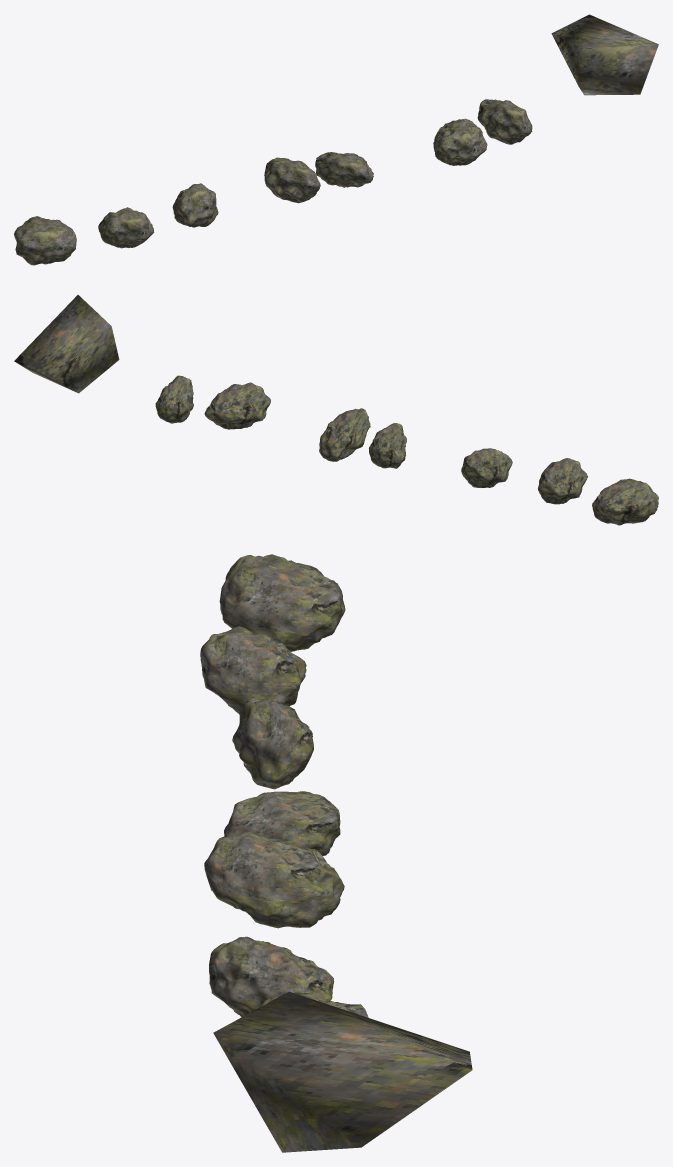
The model's file is 8mossyRocks.gltf.
The picture shows the model from 3 angles, top to bottom: view 1: azimuth 30°, elevation 25°; view 2: azimuth 150°, elevation 25°; view 3: azimuth 270°, elevation 25°; orthographic projection. The views are drawn at different scales.
Parts seen in each view (by area): view 1: Cube.010, Cube, Cube.006, Cube.003, Cube.009, Cube.001, Cube.004, Cube.002; view 2: Cube.010, Cube, Cube.006, Cube.004, Cube.001, Cube.002, Cube.009, Cube.003; view 3: Cube.010, Cube.004, Cube, Cube.001, Cube.006, Cube.002, Cube.003.
Part boxes in pixels (left/top/right/bottom): Cube.010: left=551, top=14, right=658, bottom=95; Cube: left=14, top=216, right=76, bottom=265; Cube.006: left=433, top=118, right=487, bottom=165; Cube.003: left=264, top=157, right=320, bottom=203; Cube.009: left=477, top=99, right=532, bottom=144; Cube.001: left=98, top=207, right=154, bottom=248; Cube.004: left=315, top=152, right=373, bottom=187; Cube.002: left=172, top=183, right=218, bottom=227; Cube.010: left=14, top=295, right=119, bottom=393; Cube: left=592, top=478, right=658, bottom=525; Cube.006: left=204, top=382, right=270, bottom=429; Cube.004: left=319, top=408, right=370, bottom=461; Cube.001: left=538, top=458, right=587, bottom=504; Cube.002: left=461, top=448, right=512, bottom=487; Cube.009: left=155, top=375, right=193, bottom=423; Cube.003: left=369, top=423, right=406, bottom=468; Cube.010: left=213, top=991, right=472, bottom=1152; Cube.004: left=204, top=831, right=344, bottom=928; Cube: left=219, top=554, right=345, bottom=651; Cube.001: left=200, top=626, right=306, bottom=713; Cube.006: left=209, top=936, right=334, bottom=1017; Cube.002: left=232, top=697, right=313, bottom=789; Cube.003: left=224, top=791, right=340, bottom=855.
Size of the model in its own units: 80.59 by 10.34 by 15.83.
1 material, 1 textured.
